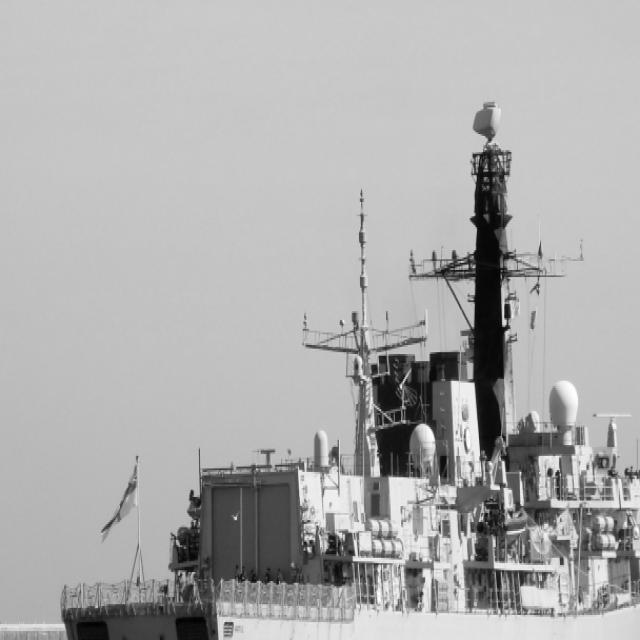Fragata: (60, 63, 640, 640)
